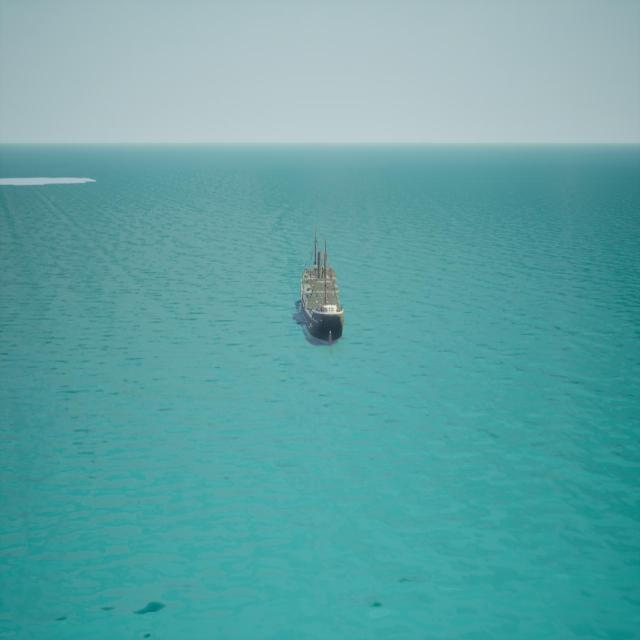fishing ship: (299, 238, 343, 347)
